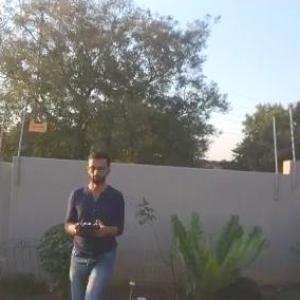follow: (60, 155, 132, 299)
